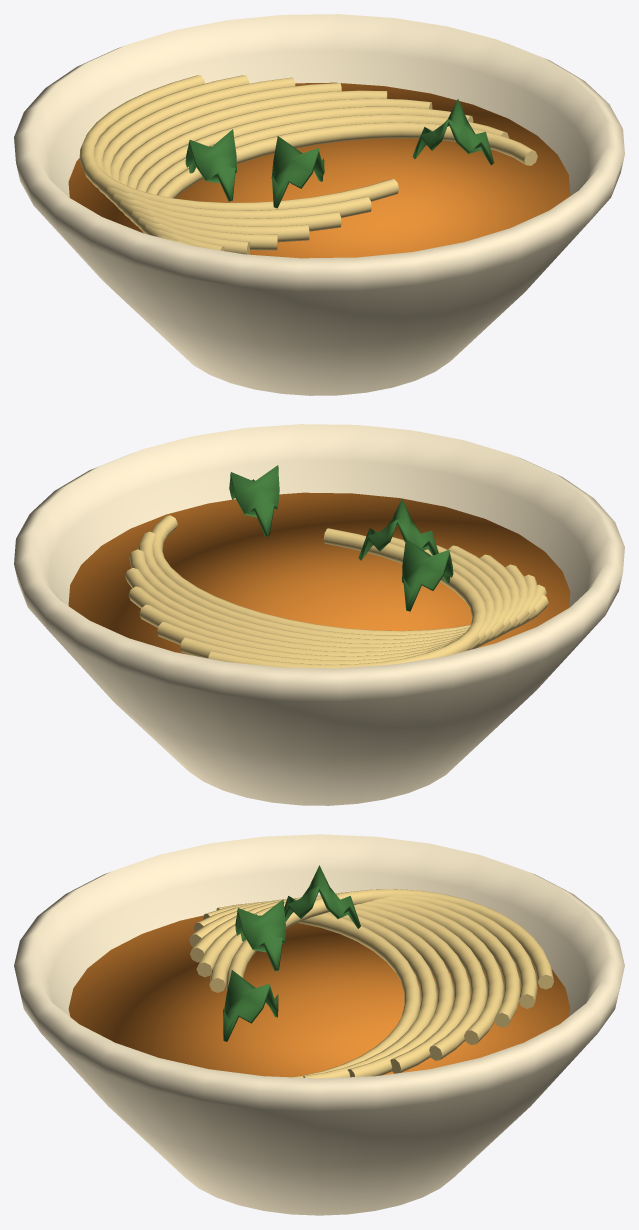
File: spicy-flat-noodle-soup.glb
3 views of the same model, one above another, from view 1: azimuth 30°, elevation 25°; view 2: azimuth 150°, elevation 25°; view 3: azimuth 270°, elevation 25° (orthographic).
Visible parts, largest first — view 1: container_bowl, edible_broth, edible_noodle.008, edible_noodle, edible_noodle.007, edible_noodle.006, edible_noodle.005, edible_noodle.004, edible_noodle.003, edible_noodle.002, edible_noodle.001, edible_herb (+2 smaller); view 2: container_bowl, edible_broth, edible_noodle.008, edible_noodle.005, edible_noodle.004, edible_noodle, edible_noodle.003, edible_noodle.006, edible_noodle.002, edible_noodle.001, edible_noodle.007, edible_herb (+2 smaller); view 3: container_bowl, edible_broth, edible_noodle.008, edible_noodle.004, edible_noodle.003, edible_noodle.005, edible_noodle, edible_noodle.002, edible_noodle.006, edible_noodle.007, edible_noodle.001, edible_herb.001 (+2 smaller).
Boxes of the visible parts, x1,y1,x2,y2 form: container_bowl: (14, 14, 624, 395); edible_broth: (68, 82, 570, 258); edible_noodle.008: (79, 75, 398, 210); edible_noodle: (157, 122, 537, 198); edible_noodle.007: (94, 75, 371, 218); edible_noodle.006: (102, 77, 341, 231); edible_noodle.005: (110, 83, 341, 242); edible_noodle.004: (119, 90, 387, 250); edible_noodle.003: (127, 98, 432, 254); edible_noodle.002: (136, 106, 473, 250); edible_noodle.001: (146, 114, 508, 246); edible_herb: (185, 129, 236, 201); container_bowl: (14, 424, 624, 805); edible_broth: (68, 492, 570, 655); edible_noodle.008: (208, 528, 486, 668); edible_noodle.005: (139, 545, 511, 656); edible_noodle.004: (128, 554, 519, 651); edible_noodle: (152, 515, 548, 634); edible_noodle.003: (125, 564, 527, 647); edible_noodle.006: (157, 545, 502, 660); edible_noodle.002: (129, 549, 537, 643); edible_noodle.001: (138, 531, 546, 639); edible_noodle.007: (180, 537, 494, 664); edible_herb: (402, 539, 453, 611); container_bowl: (14, 834, 624, 1215); edible_broth: (68, 915, 570, 1077); edible_noodle.008: (226, 889, 554, 991); edible_noodle.004: (189, 898, 487, 1060); edible_noodle.003: (194, 899, 470, 1073); edible_noodle.005: (190, 897, 503, 1045); edible_noodle: (233, 905, 420, 1077); edible_noodle.002: (203, 901, 454, 1077); edible_noodle.006: (196, 895, 520, 1027); edible_noodle.007: (209, 892, 537, 1008); edible_noodle.001: (216, 903, 437, 1078); edible_herb.001: (235, 899, 285, 971).
Size of the model in its own units: 0.294 by 0.12 by 0.294.
